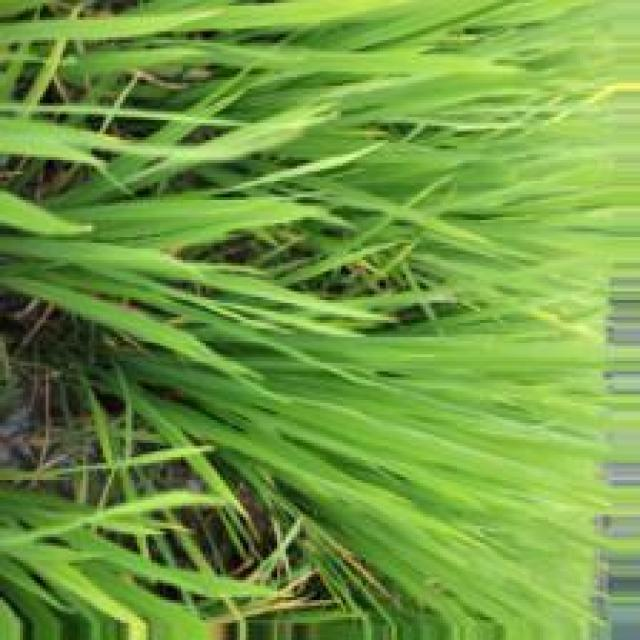HealthyLeaf: (316, 402, 434, 458), (406, 72, 496, 102), (401, 339, 512, 358), (115, 203, 204, 222)
